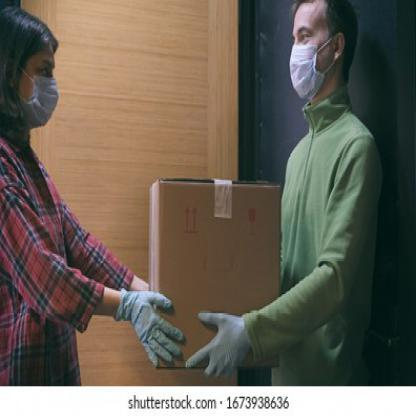Gloves: (113, 284, 185, 370), (194, 301, 252, 376)
